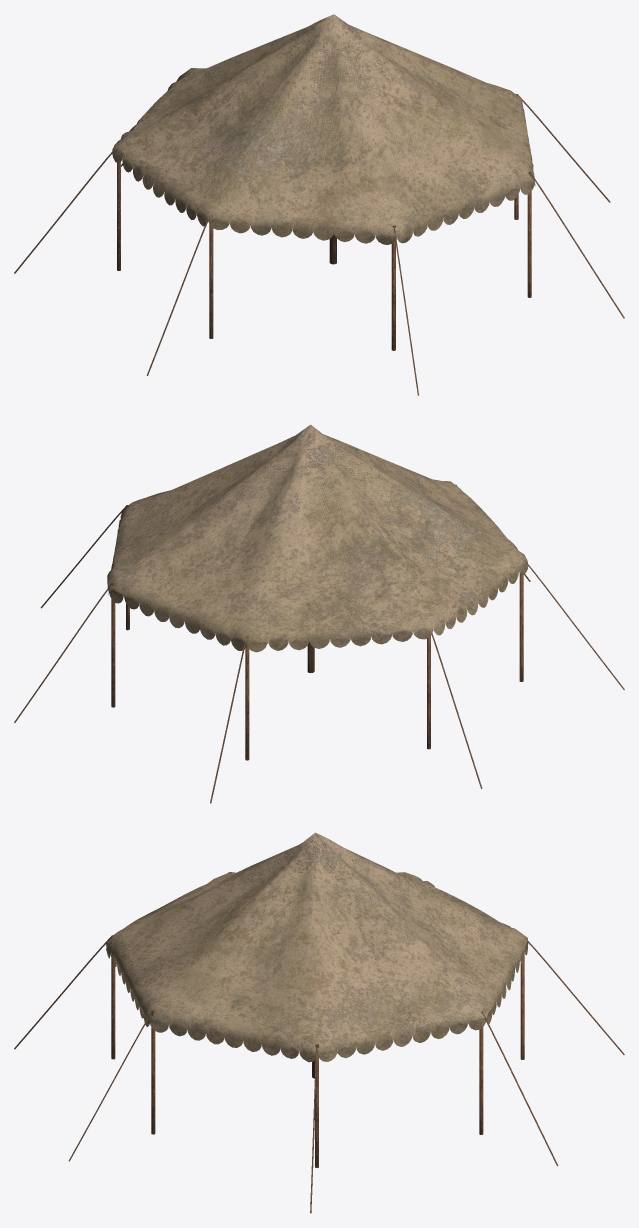
File: SM_Tent_B.fbx
3 views of the same model, one above another, from view 1: azimuth 30°, elevation 25°; view 2: azimuth 150°, elevation 25°; view 3: azimuth 270°, elevation 25° (orthographic).
Parts seen in each view (by area): view 1: SM_Tent_B_LOD0; view 2: SM_Tent_B_LOD0; view 3: SM_Tent_B_LOD0.
Boxes of the visible parts, x1,y1,x2,y2 form: SM_Tent_B_LOD0: (14, 14, 624, 395); SM_Tent_B_LOD0: (14, 424, 624, 803); SM_Tent_B_LOD0: (14, 832, 624, 1213).
Size of the model in its own units: 1143 by 1167 by 526.
2 materials, 2 textured.
